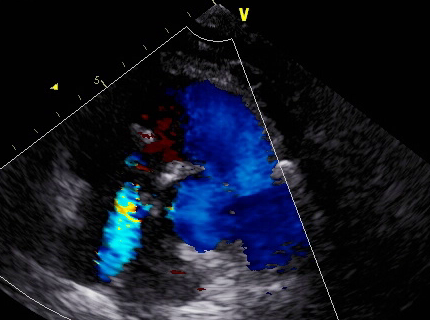TR: (95, 158, 173, 231)
